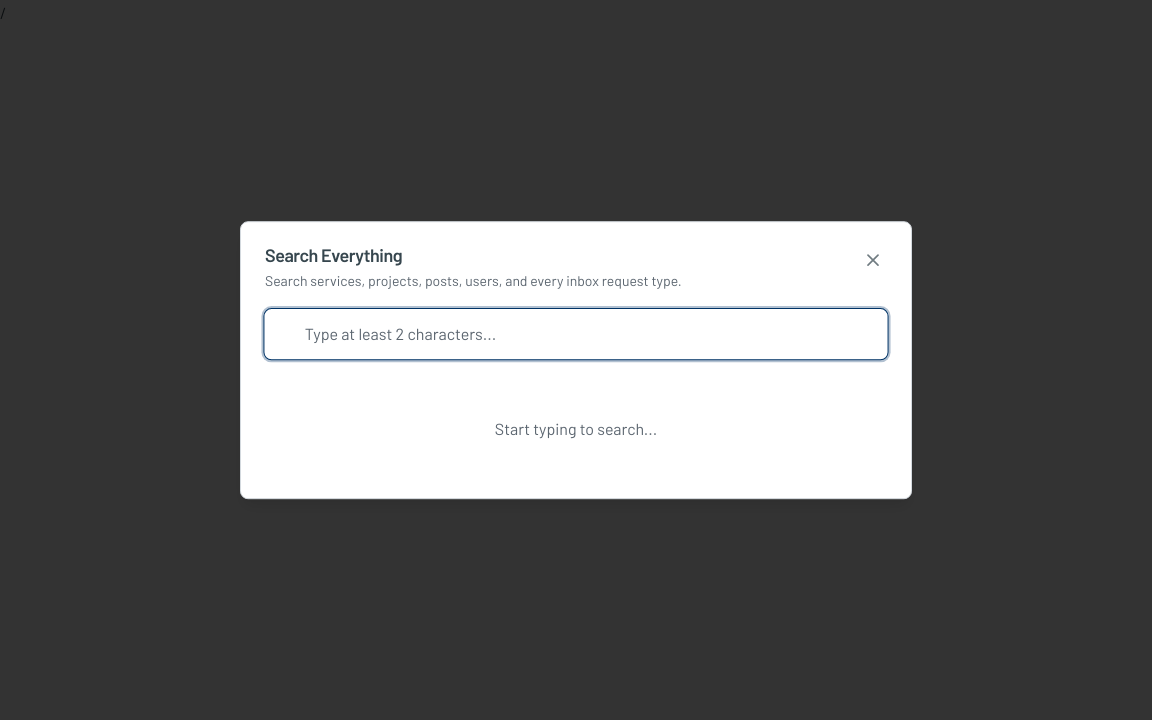
Test: shared global search dialog › routes directly to the selected inquiry
The image size is (1152, 720).
Type "Fixture" into the field named "Search admin content and inquiries" at (576, 334), box [263,308,888,360]
Wait 301 ms
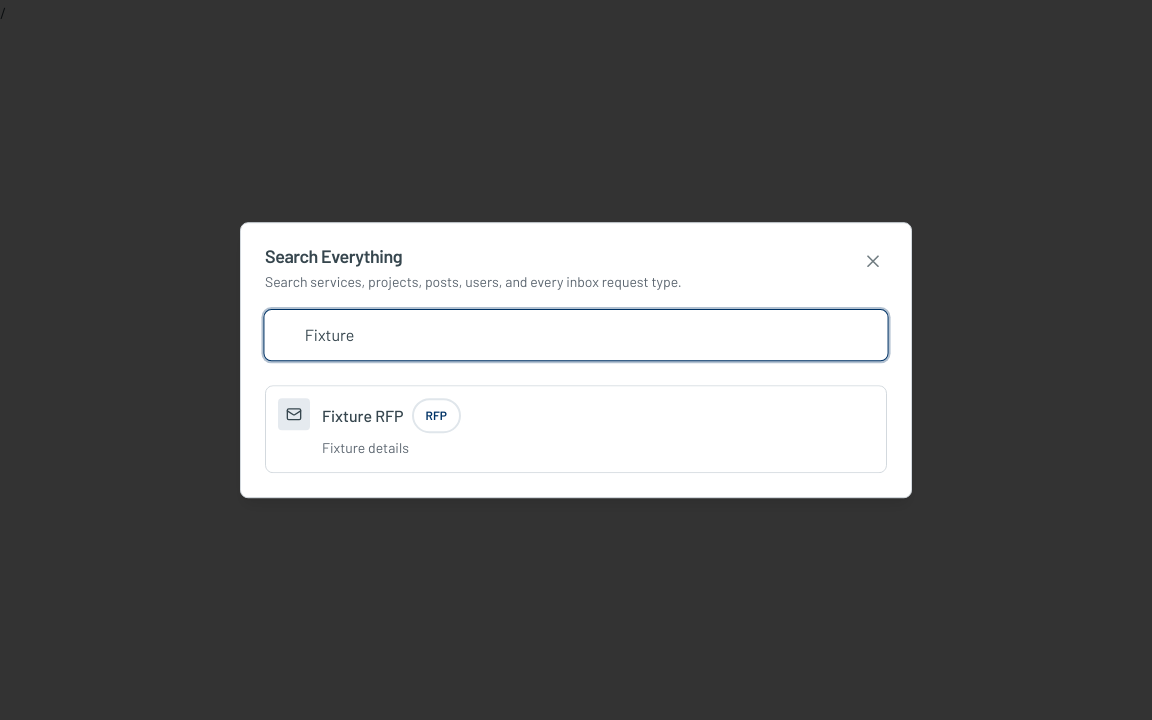
Click the button "Fixture RFP RFP Fixture details" at (294, 414), box [265,385,887,473]
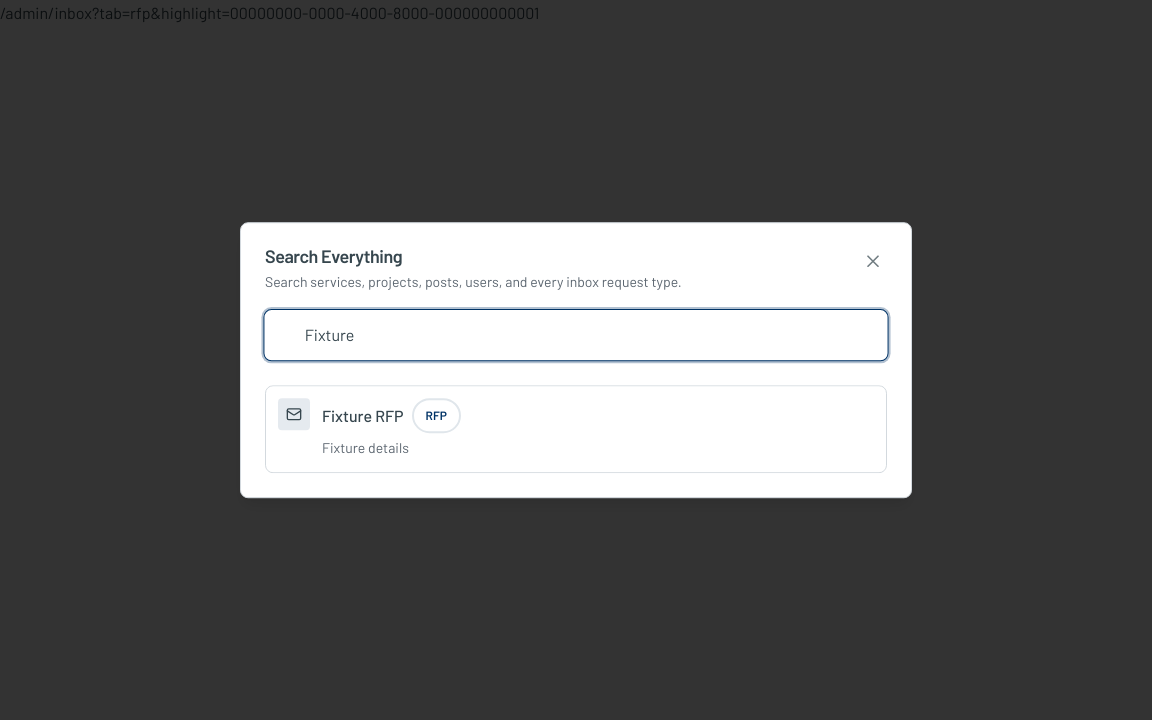
Result: the text with test id "location" reads "/admin/inbox?tab=rfp&highlight=00000000-0000-4000-8000-000000000001" at [0,3,540,22]
